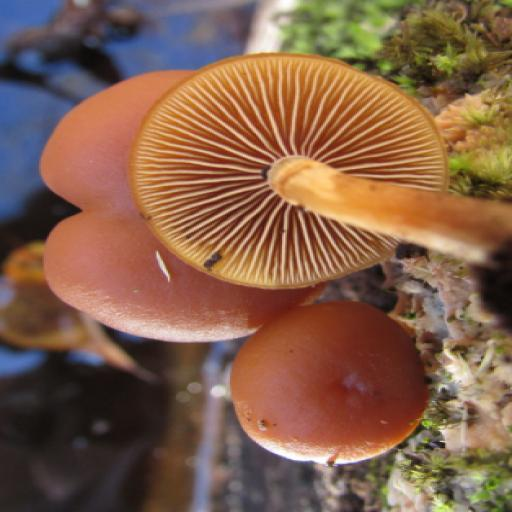mushroom: (33, 45, 460, 470)
